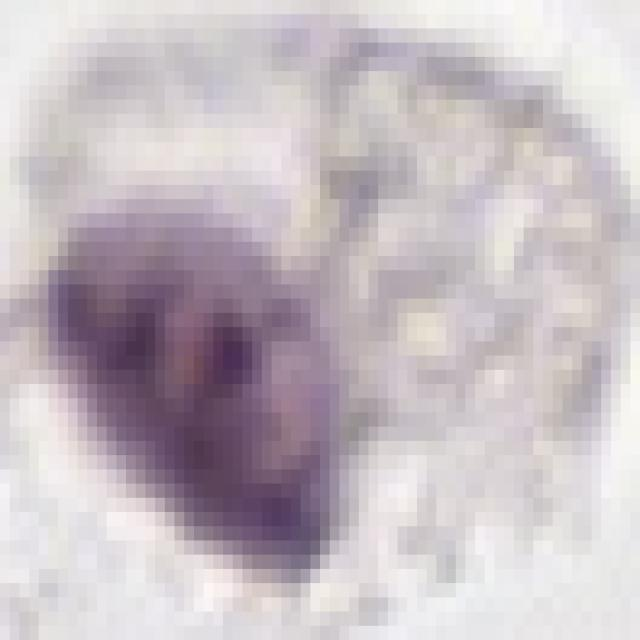cytoplasm: (1, 0, 630, 626)
nucleus: (0, 141, 426, 634)
